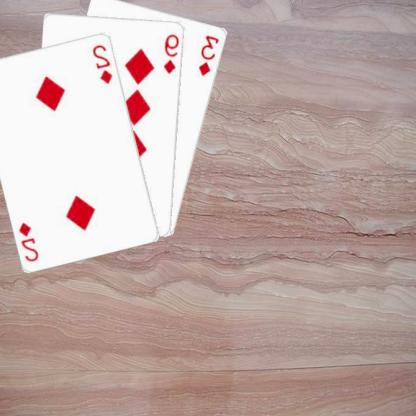2D: (18, 219, 42, 263), (92, 42, 115, 85)
3D: (198, 32, 223, 78)
9D: (163, 31, 181, 75)
